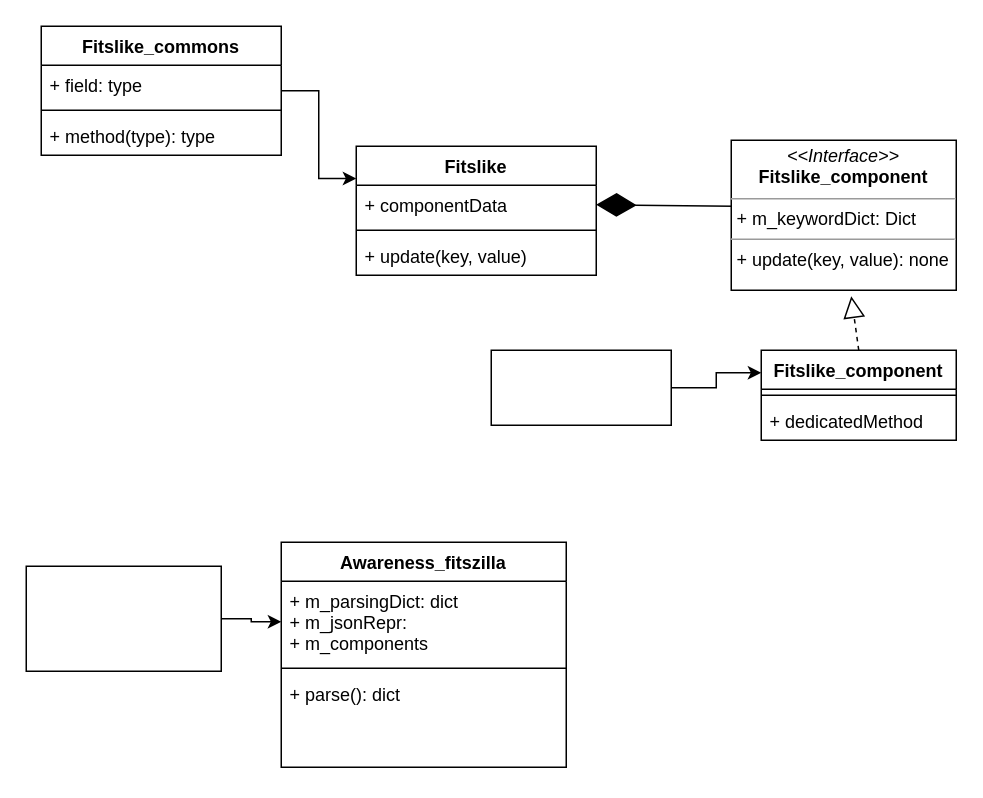
Some shapes in this 983 by 798 pixel diagram are drawn without their labels. The shapes that lost their labels are listed below. From the top down, each one's centre as x and y in pixels, then its label:
pixel 580 387: fitslike.json Component's Keyword
pixel 123 618: fitszilla.json Component's Keyword Parsing rules
